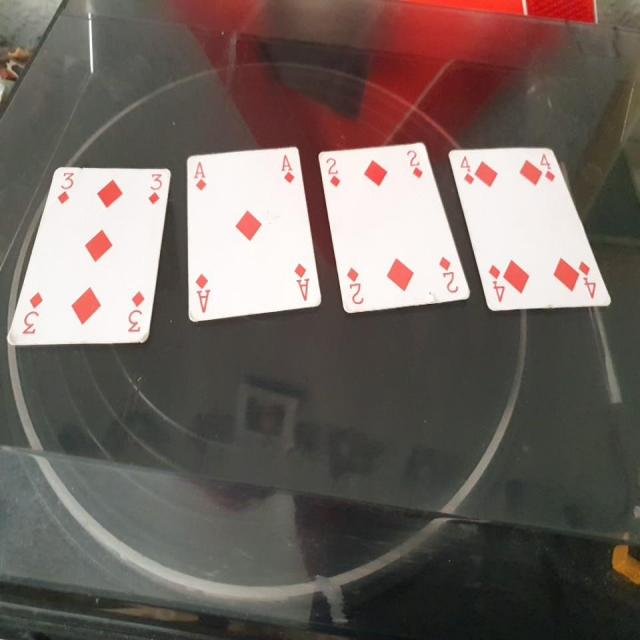2 Diamonds: (315, 133, 474, 314)
3 Diamonds: (7, 161, 176, 354)
4 Diamonds: (447, 138, 616, 320)
A Diamonds: (185, 138, 324, 324)
